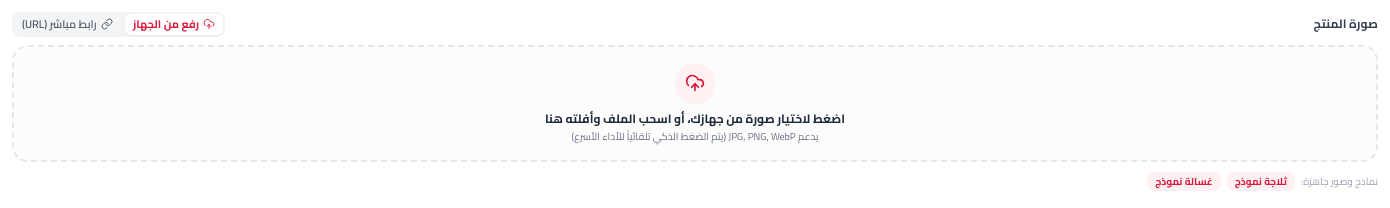
it: ImageUploader Component › switches to URL input mode when clicking URL tab
Click the button "رابط مباشر (URL)" at (67, 24), box [14,14,121,34]
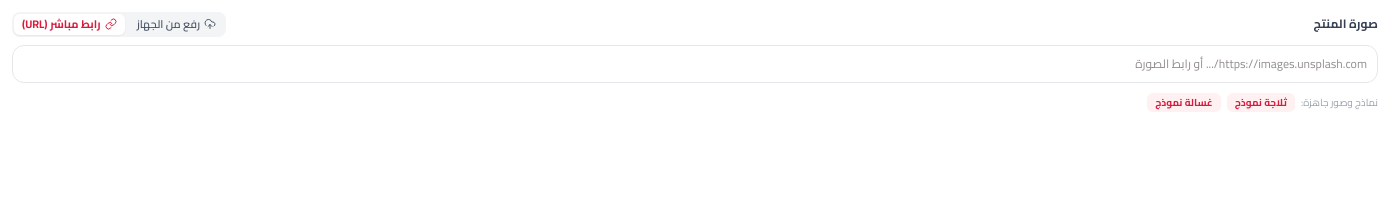
Result: the field with placeholder "https://images.unsplash.com/... أو رابط الصورة" is shown at [12,44,1378,82]
